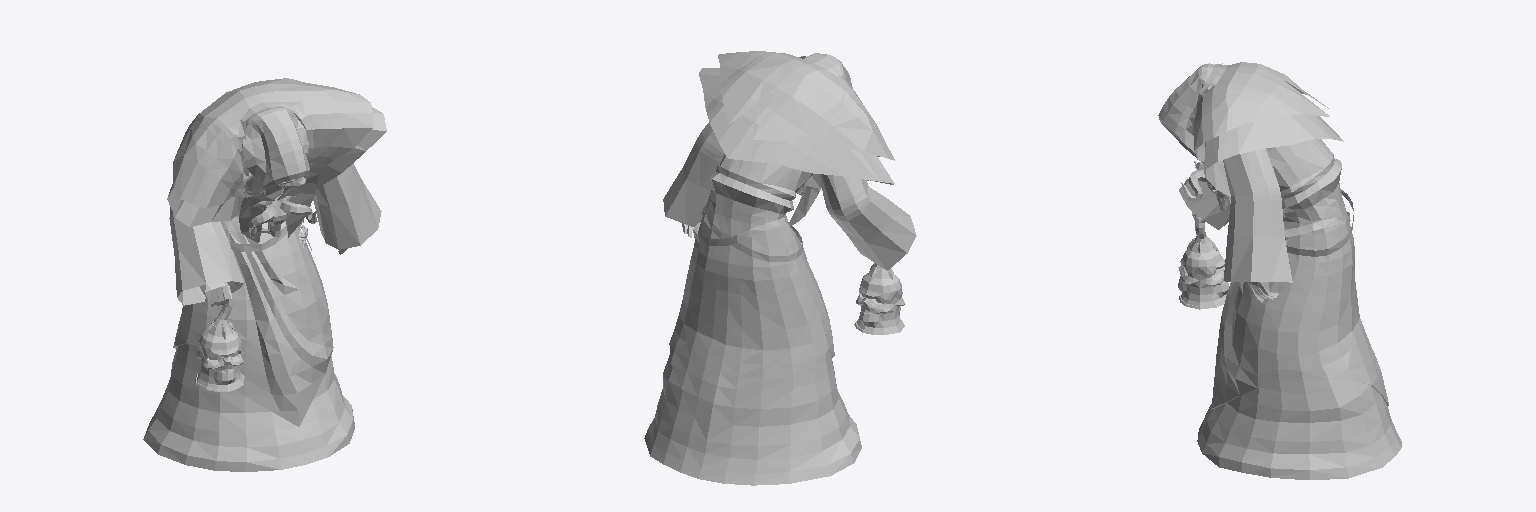
Rendered from basteroe.obj.
3 views of the same model, side by side, from view 1: azimuth 30°, elevation 25°; view 2: azimuth 150°, elevation 25°; view 3: azimuth 270°, elevation 25° (orthographic).
Visible parts, largest first — view 1: basteroe-mesh, basteroe_apron-mesh, bell_w-mesh, basteroe_Arm-mesh; view 2: basteroe_apron-mesh, basteroe-mesh, bell_w-mesh; view 3: basteroe_apron-mesh, basteroe-mesh, bell_w-mesh.
Part boxes in pixels (x1,y1,x2,y2): basteroe-mesh: (167,78,386,305); basteroe_apron-mesh: (143,190,354,471); bell_w-mesh: (195,293,244,391); basteroe_Arm-mesh: (199,248,347,306); basteroe_apron-mesh: (644,205,861,485); basteroe-mesh: (663,51,916,270); bell_w-mesh: (854,263,904,334); basteroe_apron-mesh: (1197,190,1401,479); basteroe-mesh: (1158,62,1343,282); bell_w-mesh: (1178,214,1228,309).
Size of the model in its own units: 92.78 by 145 by 88.02.